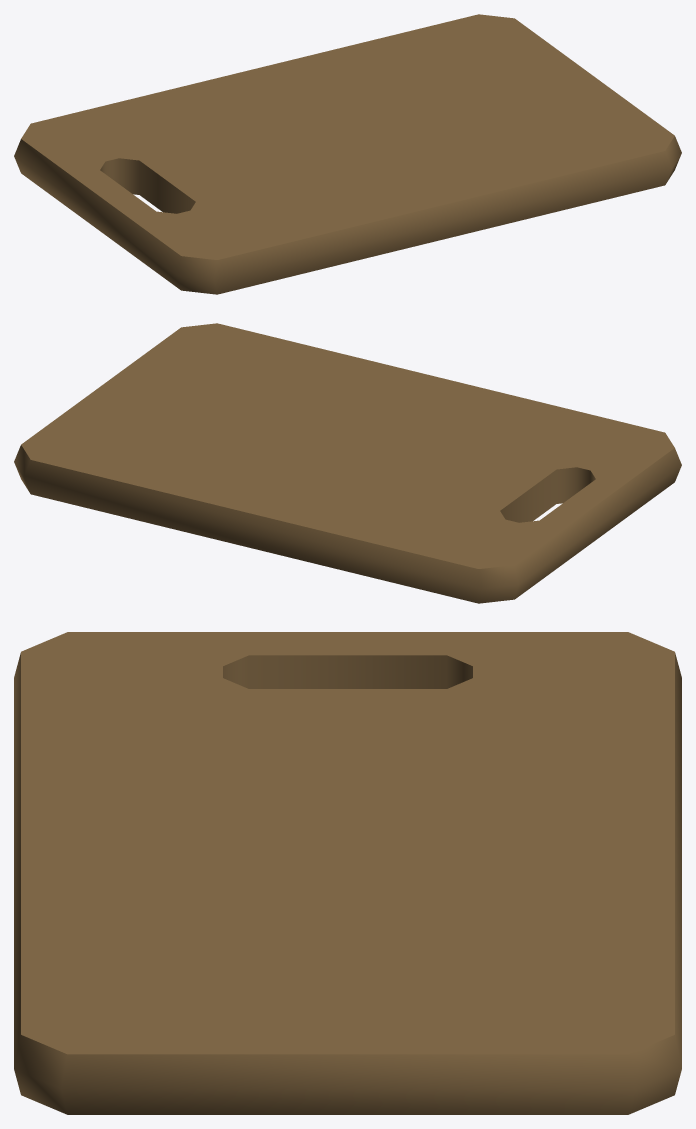
The model's file is kitchen_chopping_block.glb.
The picture shows the model from 3 angles, top to bottom: view 1: azimuth 30°, elevation 25°; view 2: azimuth 150°, elevation 25°; view 3: azimuth 270°, elevation 25°; orthographic projection. The views are drawn at different scales.
Visible parts, largest first — view 1: chopping_block; view 2: chopping_block; view 3: chopping_block.
Part boxes in pixels (box(x1,y1,x2,y2)): chopping_block: box(14, 14, 681, 294); chopping_block: box(14, 323, 681, 603); chopping_block: box(14, 632, 681, 1114).
Size of the model in its own units: 0.5536 by 0.0362 by 0.3623.
